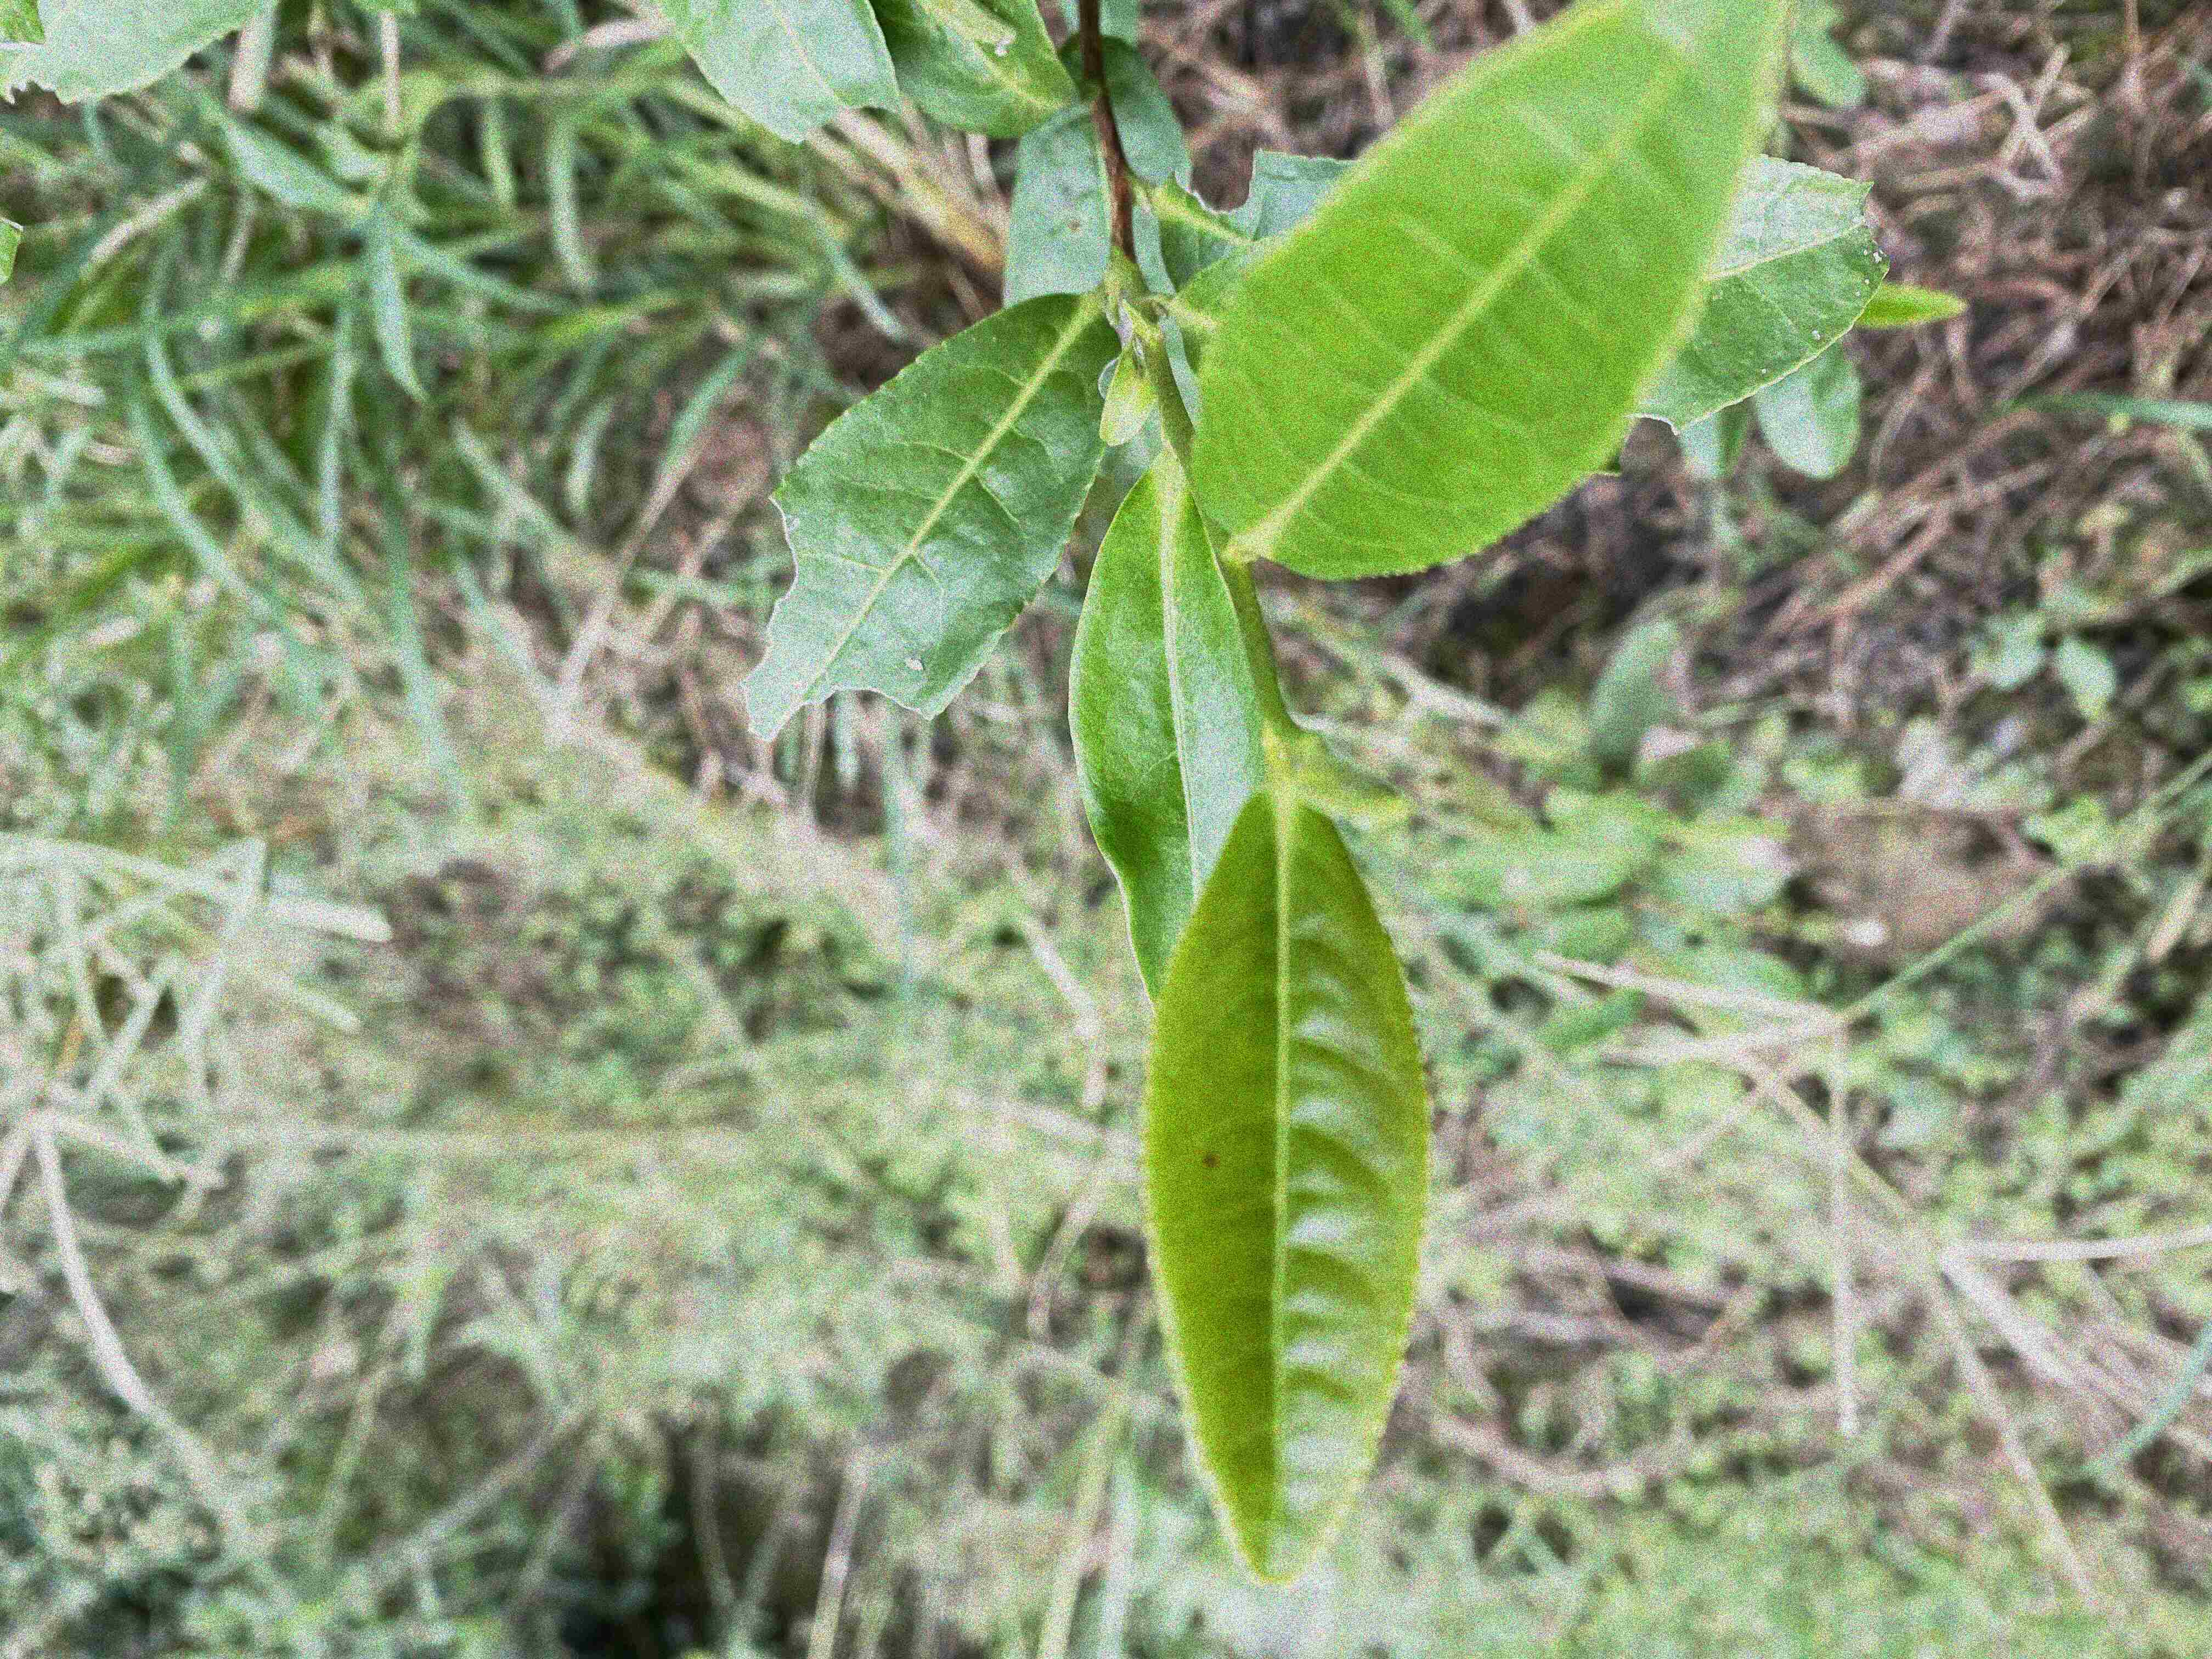chihuo_high: (1151, 148, 1893, 474), (740, 293, 1127, 744)
healthy: (1193, 2, 1784, 587), (1137, 788, 1430, 1591), (1069, 458, 1263, 1016)
